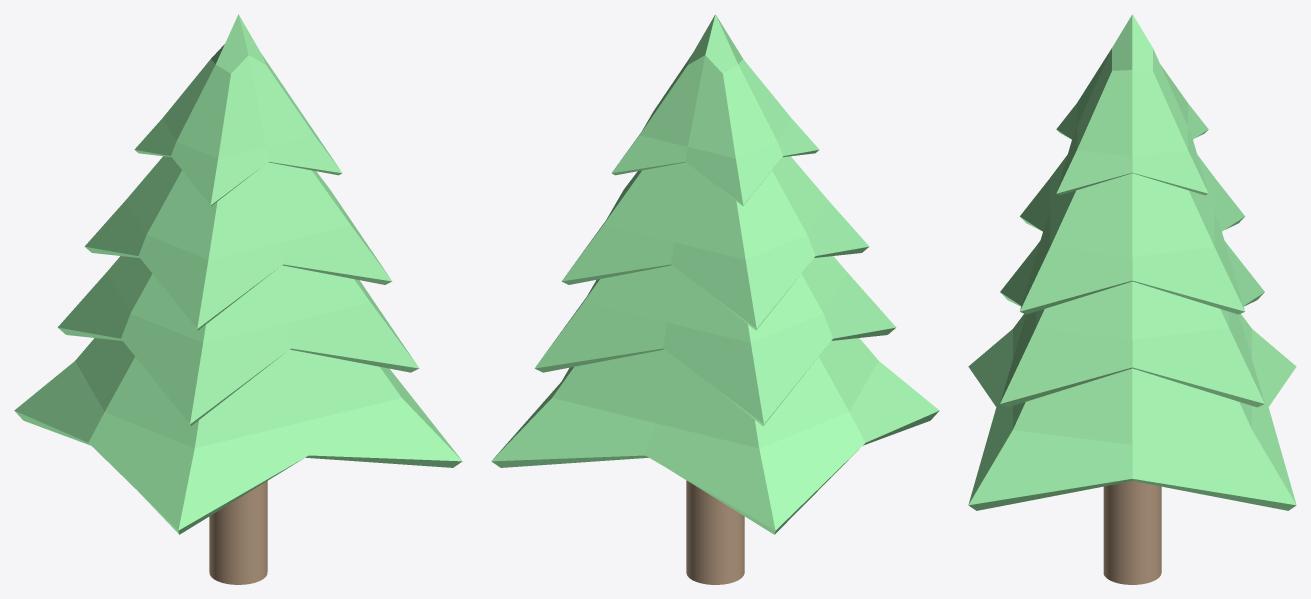
Rendered from arbre3.glb.
3 views of the same model, side by side, from view 1: azimuth 30°, elevation 25°; view 2: azimuth 150°, elevation 25°; view 3: azimuth 270°, elevation 25° (orthographic).
Visible parts, largest first — view 1: cone tree without snow; view 2: cone tree without snow; view 3: cone tree without snow.
Part boxes in pixels (x1,y1,x2,y2): cone tree without snow: (14, 14, 462, 584); cone tree without snow: (491, 14, 939, 584); cone tree without snow: (968, 14, 1296, 584).
Bounding box in the file's own units: 8.84 × 15.97 × 8.5.
